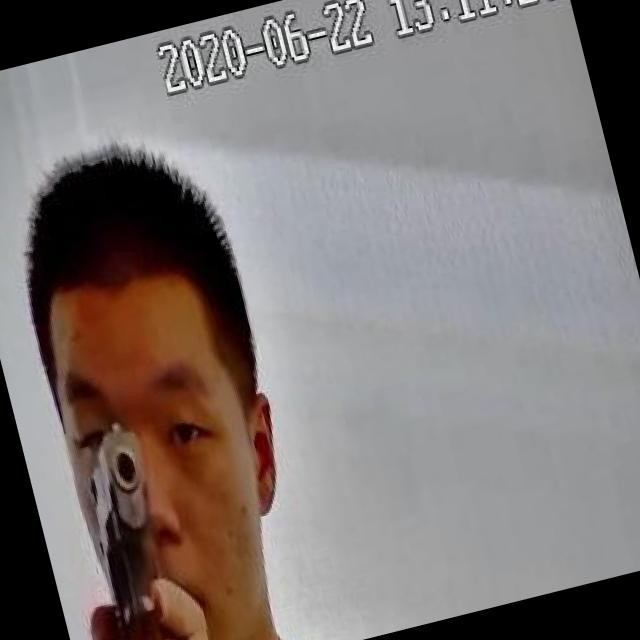Guns: (40, 397, 211, 640)
